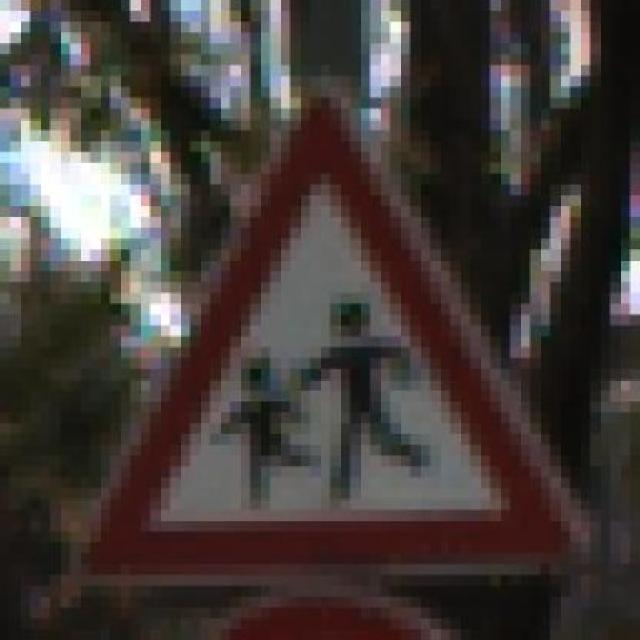Beware of children: (49, 65, 600, 586)
